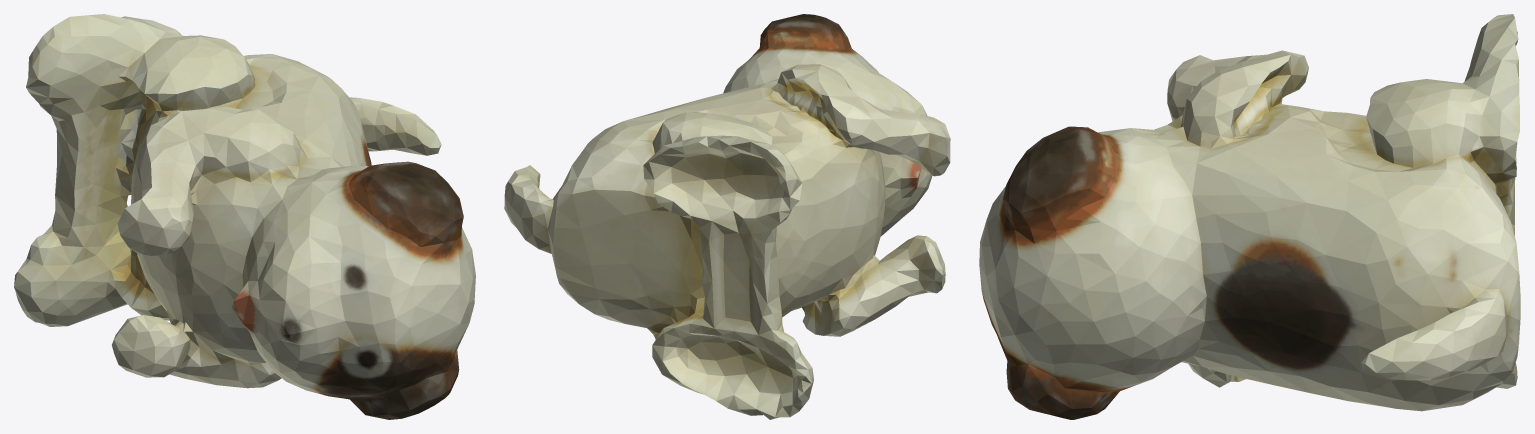
The picture shows the model from 3 angles, left to right: view 1: azimuth 30°, elevation 25°; view 2: azimuth 150°, elevation 25°; view 3: azimuth 270°, elevation 25°; orthographic projection. The views are drawn at different scales.
Size of the model in its own units: 0.0478 by 0.0348 by 0.0499.
1 material, 1 textured.
